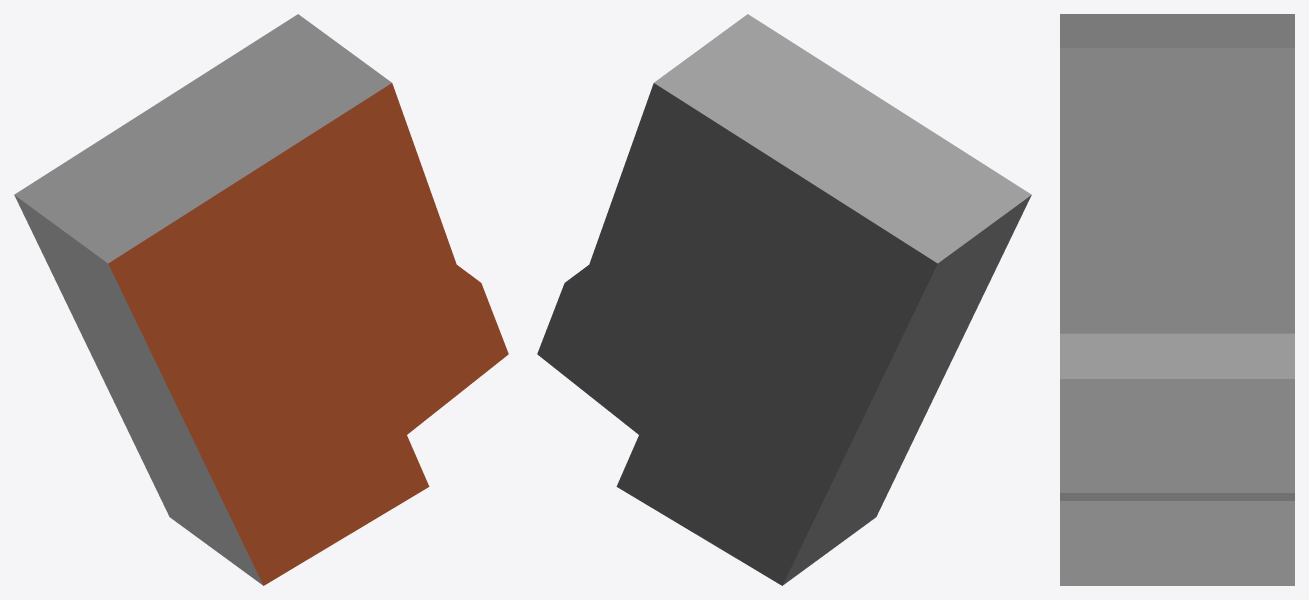
File: construction_7000_assumed_A_Casa_h6m.obj
3 renders of one model, left to right at view 1: azimuth 30°, elevation 25°; view 2: azimuth 150°, elevation 25°; view 3: azimuth 270°, elevation 25°, orthographic. The views are drawn at different scales.
Parts seen in each view (by area): view 1: construction_7000_assumed_A_Casa; view 2: construction_7000_assumed_A_Casa; view 3: construction_7000_assumed_A_Casa.
Part boxes in pixels (x1,y1,x2,y2): construction_7000_assumed_A_Casa: (14, 14, 508, 585); construction_7000_assumed_A_Casa: (537, 14, 1031, 585); construction_7000_assumed_A_Casa: (1060, 14, 1294, 585).
Size of the model in its own units: 14.76 by 16.6 by 6.
